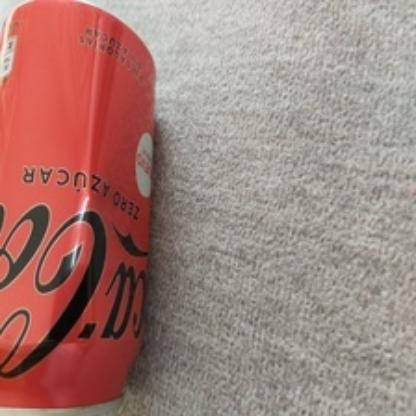Can: (0, 0, 156, 416)
